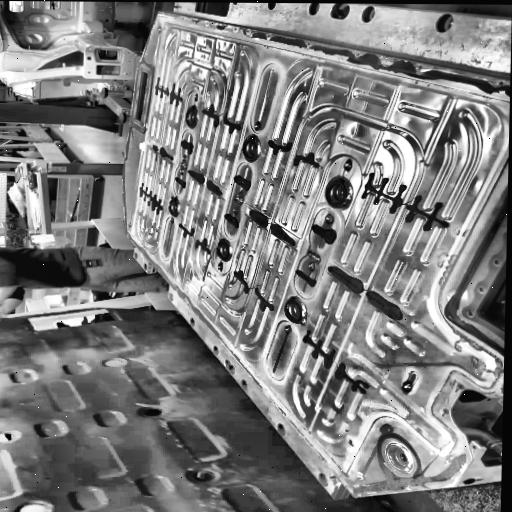b_casing: (121, 1, 512, 499)
